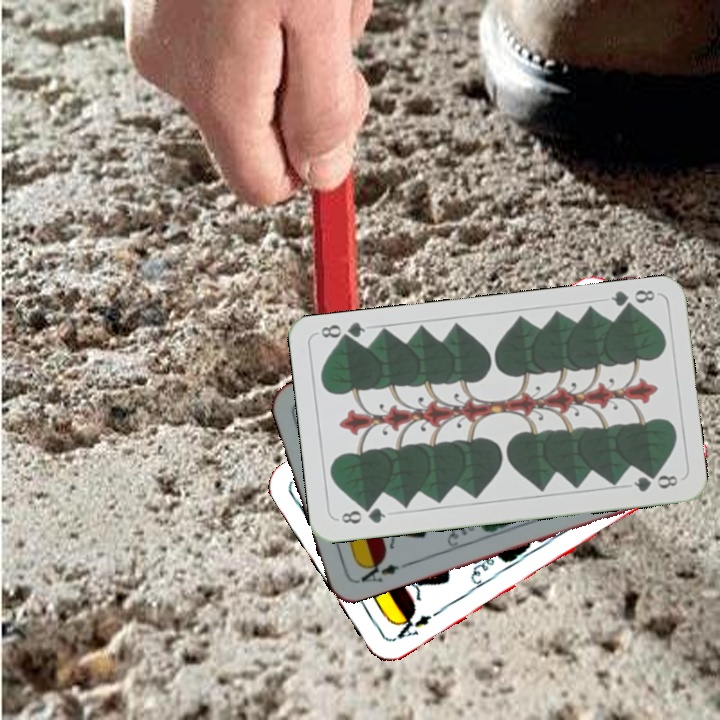EA: (389, 606, 442, 644), (353, 555, 402, 586)
G8: (607, 285, 658, 314), (334, 502, 388, 527)
